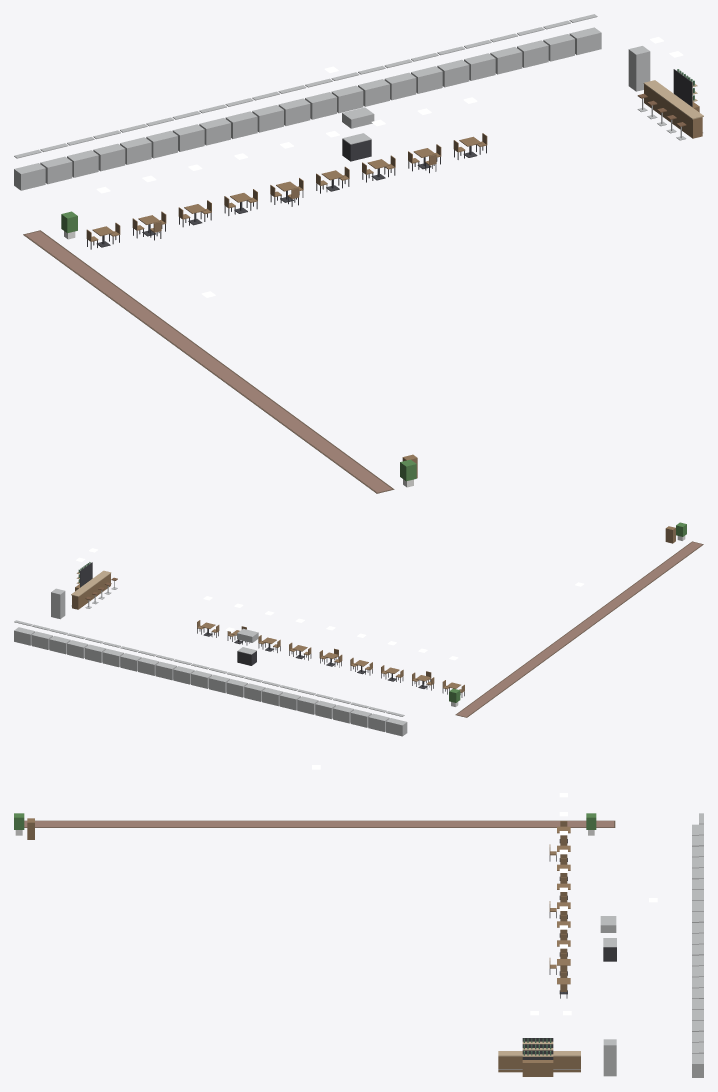
The model's file is fine-s0.glb.
3 renders of one model, top to bottom at view 1: azimuth 30°, elevation 25°; view 2: azimuth 150°, elevation 25°; view 3: azimuth 270°, elevation 25°, orthographic. The views are drawn at different scales.
Visible parts, largest first — view 1: soft-s0, range.000, fridge.000, kitchen-counter.000, kitchen-counter.018, kitchen-counter.016, kitchen-counter.001, kitchen-counter.003, kitchen-counter.021, kitchen-counter.010, kitchen-counter.008, kitchen-counter.013 (+13 smaller); view 2: soft-s0, range.000, fridge.000, kitchen-counter.000, kitchen-counter.006, kitchen-counter.009, kitchen-counter.002, kitchen-counter.016, kitchen-counter.013, kitchen-counter.020, kitchen-counter.005, kitchen-counter.011 (+12 smaller); view 3: soft-s0, back-bar.000, range.000, fridge.000.
Boxes of the visible parts, left/top/right/bottom form: soft-s0: left=23, top=230, right=394, bottom=493; range.000: left=342, top=107, right=374, bottom=161; fridge.000: left=628, top=46, right=650, bottom=91; kitchen-counter.000: left=14, top=149, right=45, bottom=190; kitchen-counter.018: left=490, top=33, right=522, bottom=74; kitchen-counter.016: left=437, top=46, right=469, bottom=87; kitchen-counter.001: left=40, top=143, right=72, bottom=184; kitchen-counter.003: left=93, top=130, right=125, bottom=171; kitchen-counter.021: left=569, top=14, right=601, bottom=54; kitchen-counter.010: left=278, top=85, right=310, bottom=125; kitchen-counter.008: left=225, top=98, right=257, bottom=138; kitchen-counter.013: left=358, top=65, right=389, bottom=106; soft-s0: left=455, top=541, right=703, bottom=717; range.000: left=237, top=628, right=258, bottom=665; fridge.000: left=51, top=588, right=65, bottom=619; kitchen-counter.000: left=386, top=711, right=407, bottom=736; kitchen-counter.006: left=279, top=685, right=300, bottom=710; kitchen-counter.009: left=226, top=672, right=247, bottom=697; kitchen-counter.002: left=350, top=702, right=371, bottom=727; kitchen-counter.016: left=102, top=642, right=123, bottom=667; kitchen-counter.013: left=155, top=655, right=176, bottom=680; kitchen-counter.020: left=31, top=624, right=52, bottom=649; kitchen-counter.005: left=297, top=689, right=318, bottom=714; kitchen-counter.011: left=191, top=663, right=212, bottom=688; soft-s0: left=24, top=820, right=615, bottom=827; back-bar.000: left=522, top=1038, right=553, bottom=1076; range.000: left=600, top=916, right=616, bottom=961; fridge.000: left=603, top=1039, right=616, bottom=1076.
Size of the model in its own units: 35.38 by 3.69 by 40.12.
